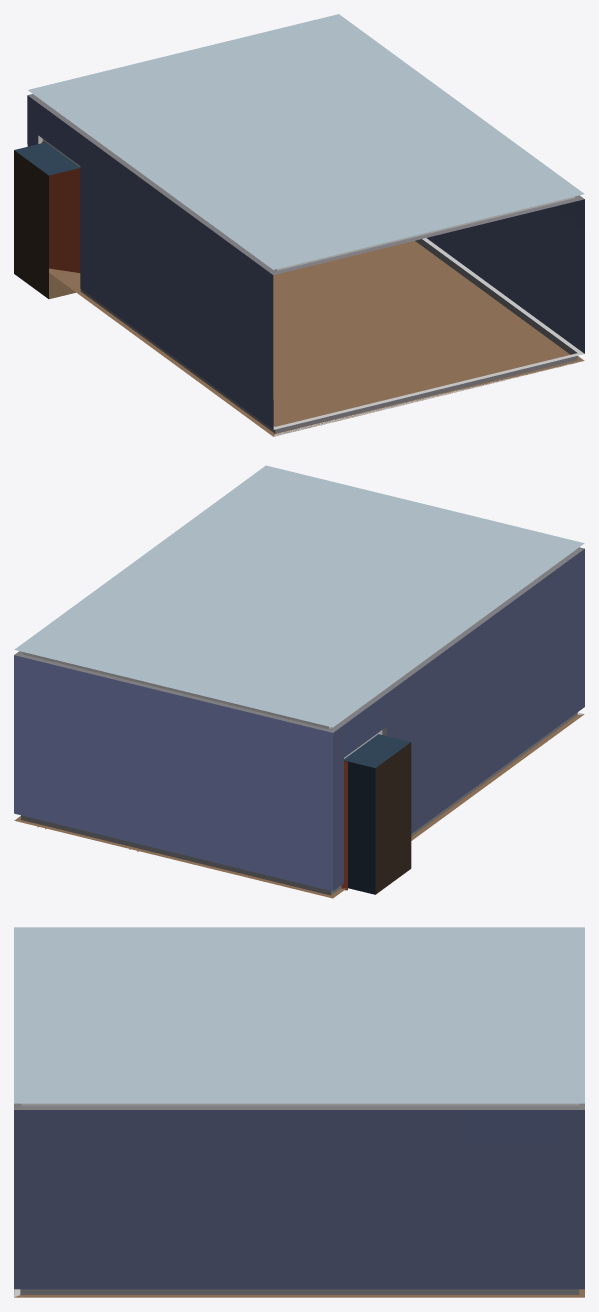
The model's file is room_01.fbx.
3 renders of one model, top to bottom at view 1: azimuth 30°, elevation 25°; view 2: azimuth 150°, elevation 25°; view 3: azimuth 270°, elevation 25°, orthographic. The views are drawn at different scales.
Parts seen in each view (by area): view 1: room, door; view 2: room; view 3: room.
Part boxes in pixels (x1,y1,x2,y2): room: (14, 14, 584, 436); door: (41, 141, 80, 272); room: (14, 465, 584, 898); room: (14, 927, 584, 1297).
Bounding box in the file's own units: 696 × 335 × 875.
